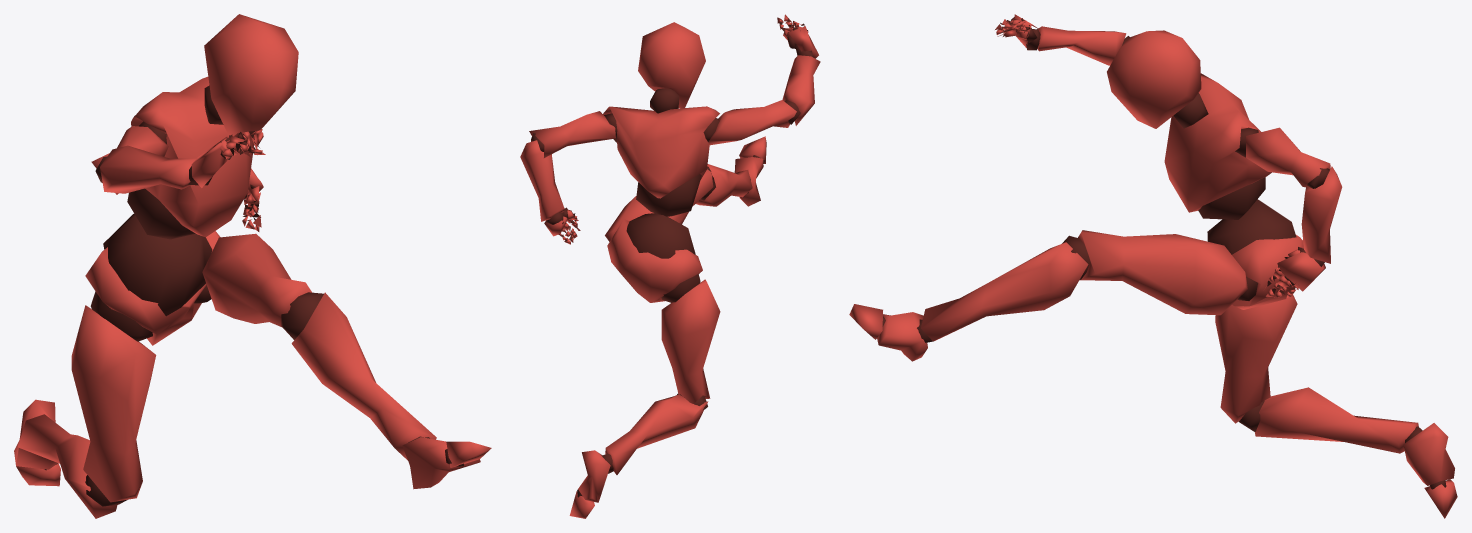
3 renders of one model, left to right at view 1: azimuth 30°, elevation 25°; view 2: azimuth 150°, elevation 25°; view 3: azimuth 270°, elevation 25°, orthographic. The views are drawn at different scales.
Visible parts, largest first — view 1: Beta_Surface; view 2: Beta_Surface; view 3: Beta_Surface.
Part boxes in pixels (box(x1,y1,x2,y2)): Beta_Surface: box(14, 14, 491, 518); Beta_Surface: box(520, 14, 820, 518); Beta_Surface: box(849, 14, 1457, 518).
Bounding box in the file's own units: 6.6 × 12.63 × 13.99.
